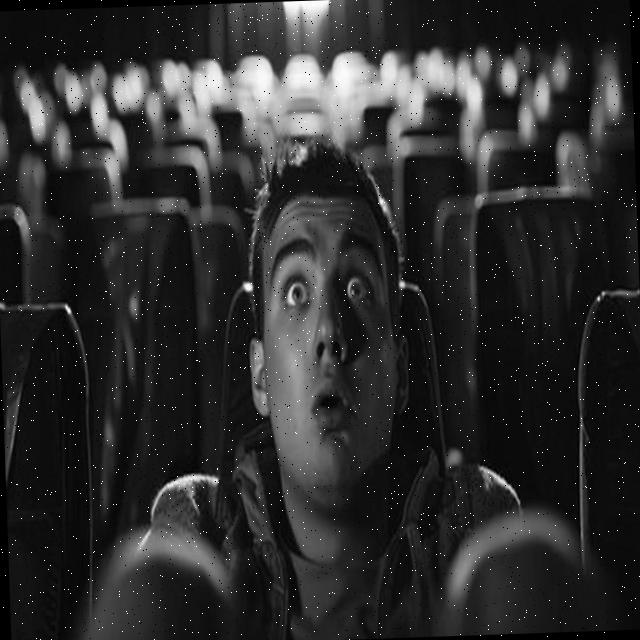Fear: (260, 192, 402, 497)
